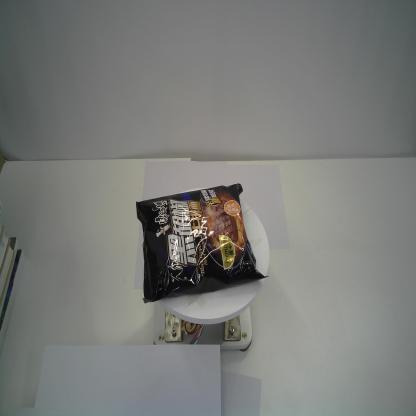Instant Noodles: (136, 180, 270, 310)
